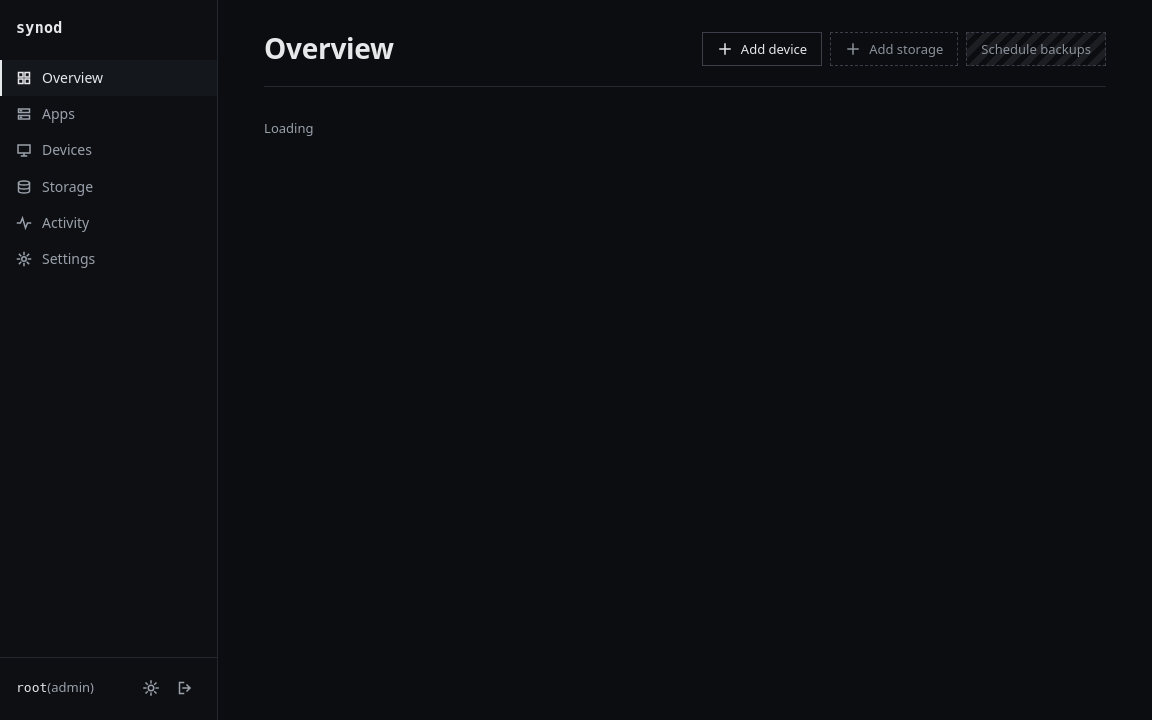
Test: the shell › changes the address when a screen is opened, so a reload returns to it
Click the link "Devices": (54, 150) x1=16 y1=140 x2=92 y2=159
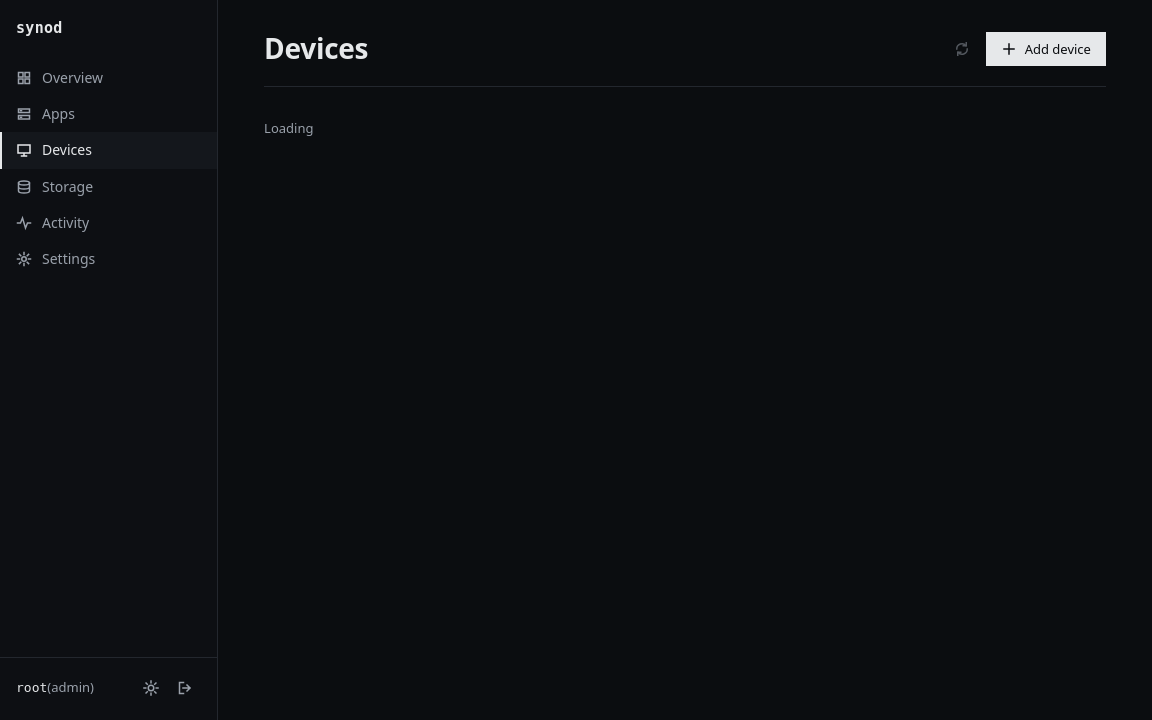
Check: the heading reads "Devices", box x1=264 y1=29 x2=368 y2=67
